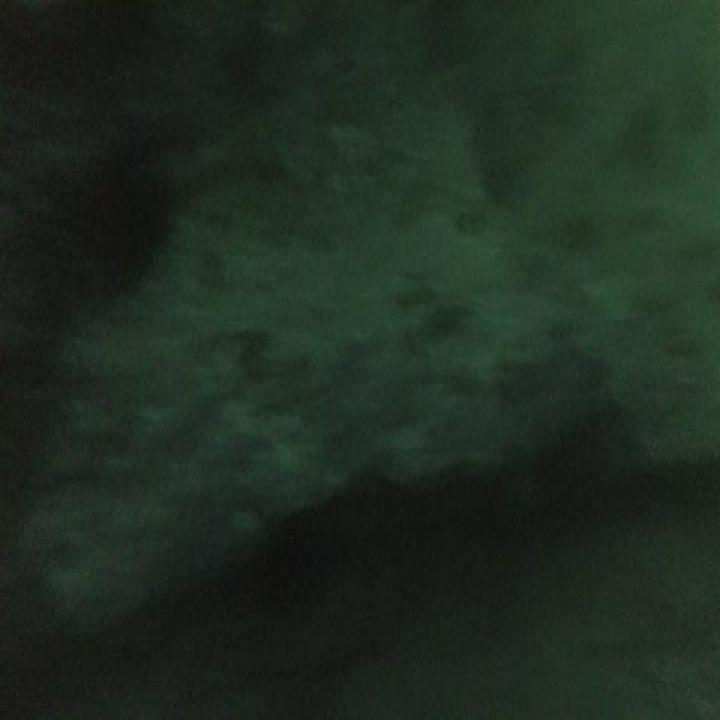echinus: (91, 140, 166, 290)
